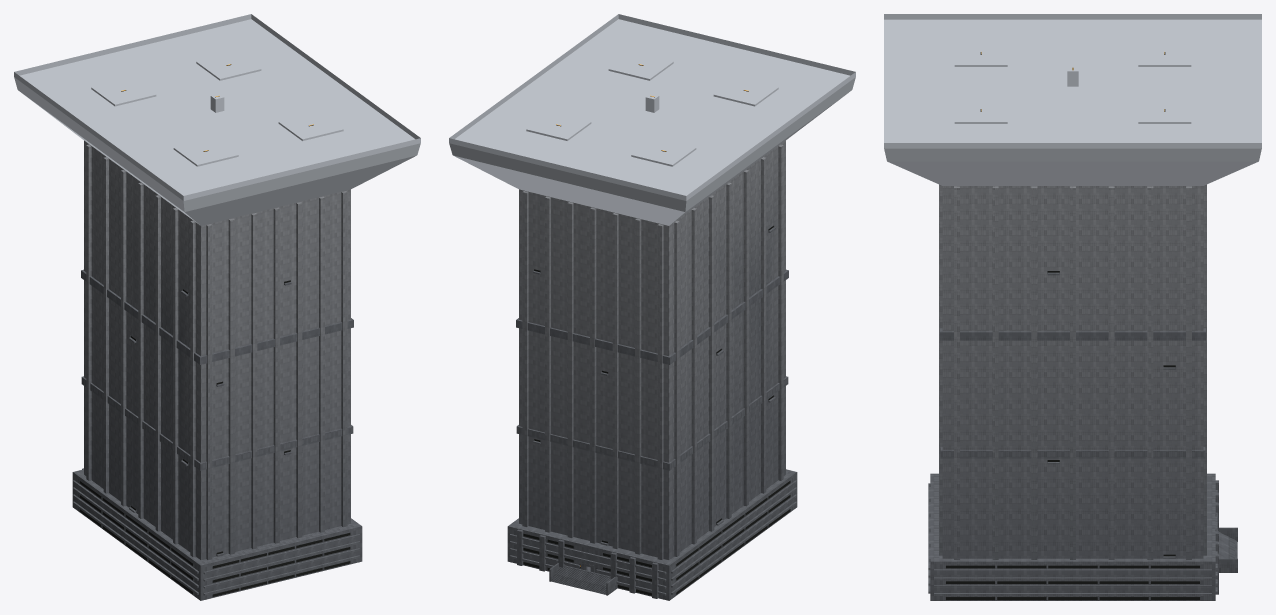
The model's file is lapd-high.glb.
The picture shows the model from 3 angles, left to right: view 1: azimuth 30°, elevation 25°; view 2: azimuth 150°, elevation 25°; view 3: azimuth 270°, elevation 25°; orthographic projection. The views are drawn at different scales.
Parts seen in each view (by area): view 1: solid-0, crown, glass-detail; view 2: solid-0, crown, glass-detail; view 3: solid-0, crown, glass-detail.
Boxes of the visible parts, bbox=[...] form: solid-0: bbox=[72, 140, 362, 600]; crown: bbox=[14, 14, 420, 225]; glass-detail: bbox=[79, 280, 350, 596]; solid-0: bbox=[507, 140, 797, 600]; crown: bbox=[449, 14, 855, 225]; glass-detail: bbox=[523, 226, 790, 595]; solid-0: bbox=[928, 184, 1237, 600]; crown: bbox=[884, 14, 1261, 185]; glass-detail: bbox=[946, 271, 1199, 599].
Size of the model in its own units: 126 by 223 by 156.
6 materials, 1 textured.
